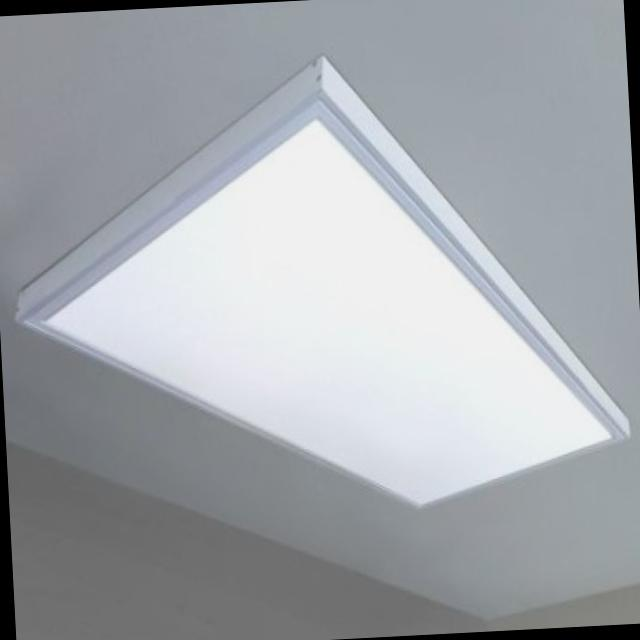light: (13, 53, 631, 510)
